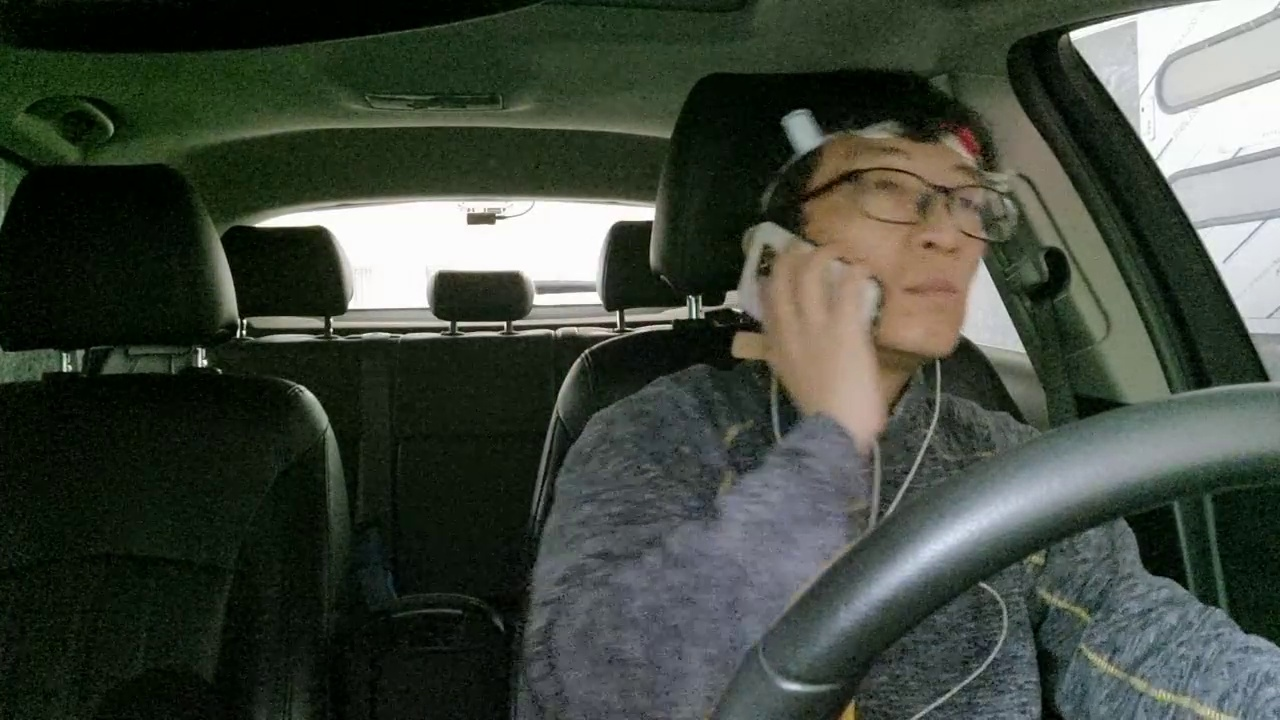phone: (706, 193, 897, 369)
